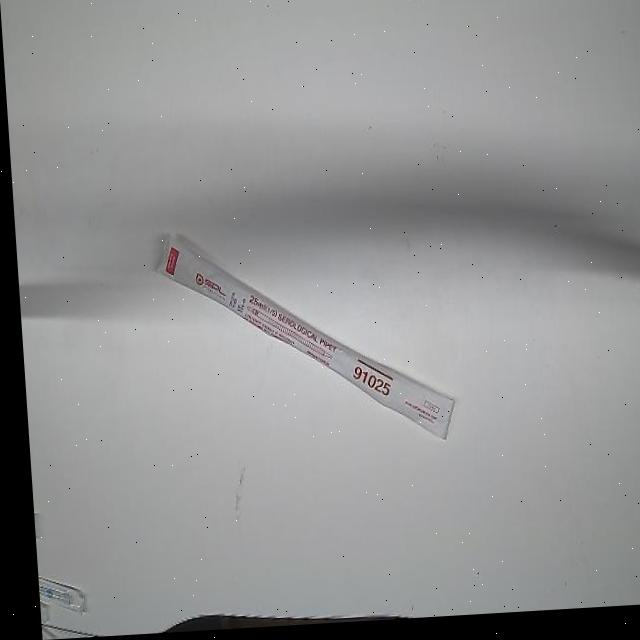Serelogical Pipet 25 mL - Sealed: (151, 223, 450, 460)
